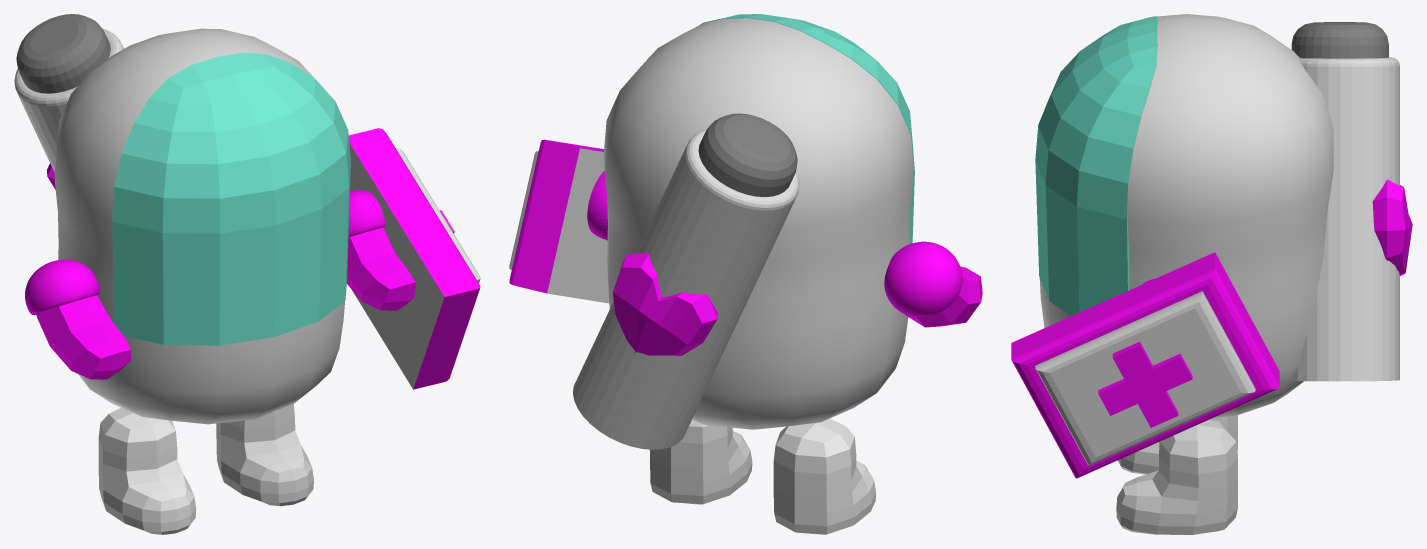
The model's file is MEdic.fbx.
3 views of the same model, side by side, from view 1: azimuth 30°, elevation 25°; view 2: azimuth 150°, elevation 25°; view 3: azimuth 270°, elevation 25° (orthographic). The views are drawn at different scales.
Parts seen in each view (by area): view 1: Cube.019, Cube.018, Cube.022, Cube.064, Cube.021, Cylinder, Cube.020, Cube.024; view 2: Cube.018, Cylinder, Cube.022, Cube.064, Cube.023, Cube.020, Cube.021, Cube.019, Cube.024; view 3: Cube.018, Cube.022, Cylinder, Cube.019, Cube.020, Plane, Cube.023, Cube.064.
Part boxes in pixels (x1=…): Cube.019: x1=112, y1=52, x2=350, y2=345; Cube.018: x1=54, y1=28, x2=344, y2=424; Cube.022: x1=348, y1=128, x2=480, y2=389; Cube.064: x1=98, y1=407, x2=196, y2=534; Cube.021: x1=25, y1=259, x2=131, y2=379; Cylinder: x1=14, y1=14, x2=123, y2=172; Cube.020: x1=216, y1=403, x2=313, y2=506; Cube.024: x1=346, y1=190, x2=415, y2=310; Cube.018: x1=603, y1=18, x2=913, y2=429; Cylinder: x1=573, y1=113, x2=799, y2=449; Cube.022: x1=509, y1=139, x2=609, y2=303; Cube.064: x1=773, y1=418, x2=876, y2=534; Cube.023: x1=613, y1=252, x2=717, y2=355; Cube.020: x1=650, y1=420, x2=752, y2=504; Cube.021: x1=884, y1=241, x2=982, y2=327; Cube.019: x1=700, y1=14, x2=914, y2=243; Cube.024: x1=587, y1=171, x2=607, y2=240; Cube.018: x1=1039, y1=14, x2=1333, y2=417; Cube.022: x1=1011, y1=252, x2=1279, y2=478; Cylinder: x1=1291, y1=22, x2=1399, y2=381; Cube.019: x1=1035, y1=16, x2=1157, y2=315; Cube.020: x1=1116, y1=420, x2=1237, y2=534; Plane: x1=1098, y1=341, x2=1192, y2=427; Cube.023: x1=1372, y1=179, x2=1412, y2=276; Cube.064: x1=1118, y1=415, x2=1237, y2=474.
Bounding box in the file's own units: 95.46 × 104 × 81.33.
